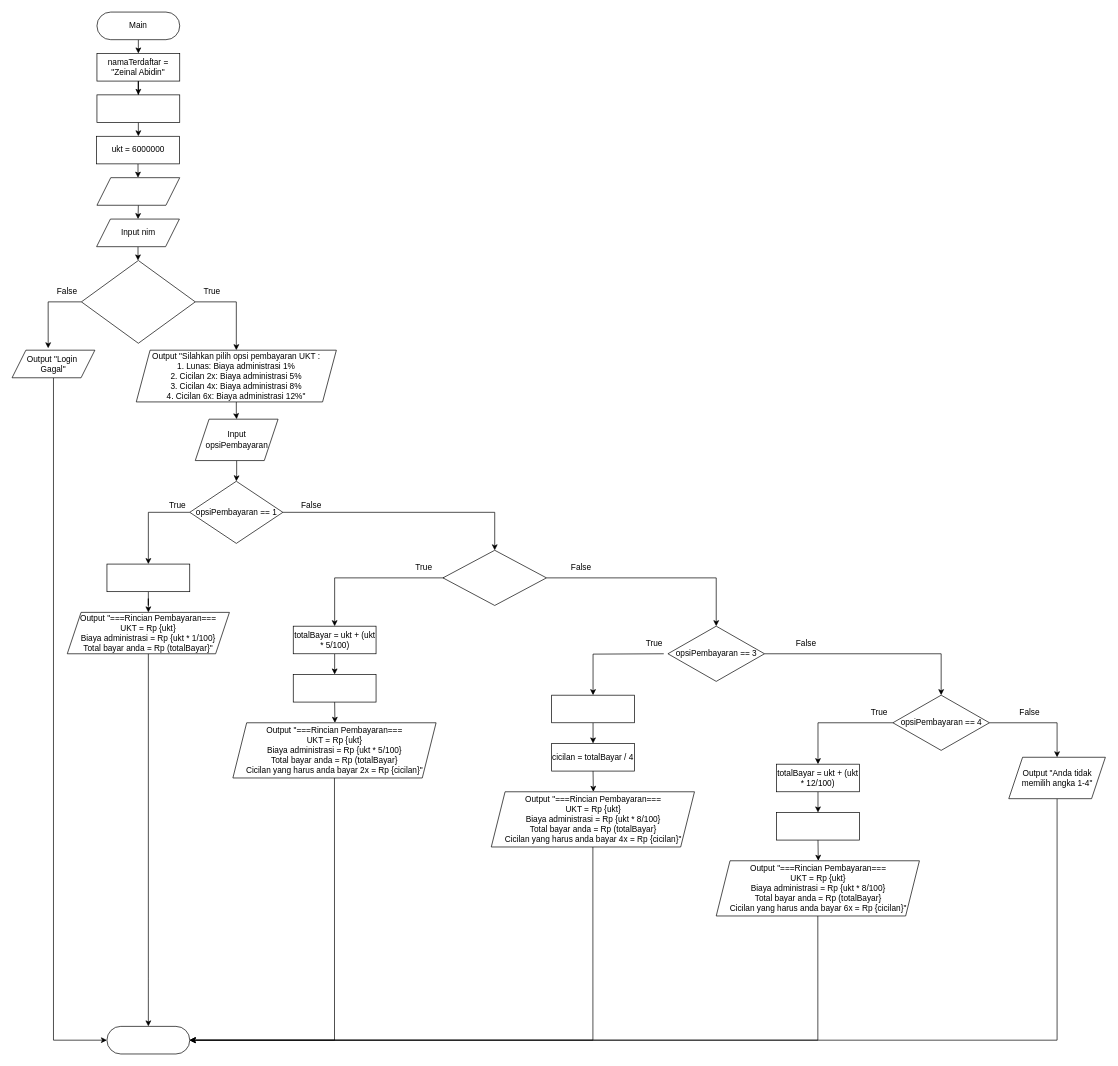
The diagram is 1118 pixels wide and 1066 high, and some of its shapes have lost their labels. The box of each missing label's shape, as (x1, y1, x2, y2) in pixels:
cicilan = totalBayar / 2: (293, 674, 376, 702)
cicilan = totalBayar / 6: (776, 812, 859, 840)
End: (106, 1026, 190, 1054)
Input nama: (96, 177, 180, 205)
nama == namaTerdaftar && nim == nimTerdaftar: (81, 260, 195, 343)
nimTerdaftar = 2509106075: (96, 94, 180, 122)
opsiPembayaran == 2: (442, 550, 546, 605)
totalBayar = ukt + (ukt * 1/100): (106, 563, 190, 592)
totalBayar = ukt + (ukt * 8/100): (551, 694, 634, 723)
